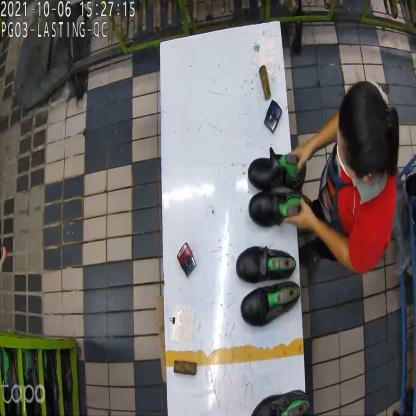shoes: (233, 244, 301, 328), (243, 145, 309, 228)
stamp: (174, 244, 197, 277), (262, 102, 282, 136)
